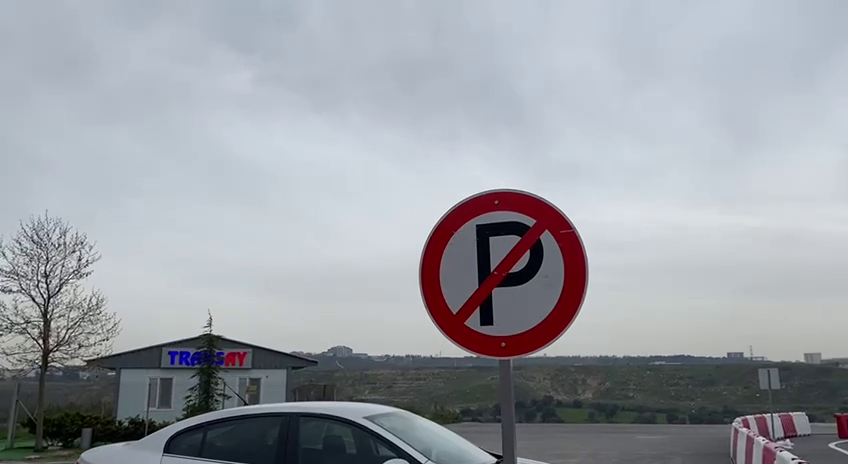noparking: (415, 185, 592, 363)
